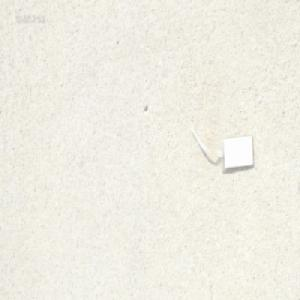LuggageTag: (183, 127, 253, 173)
